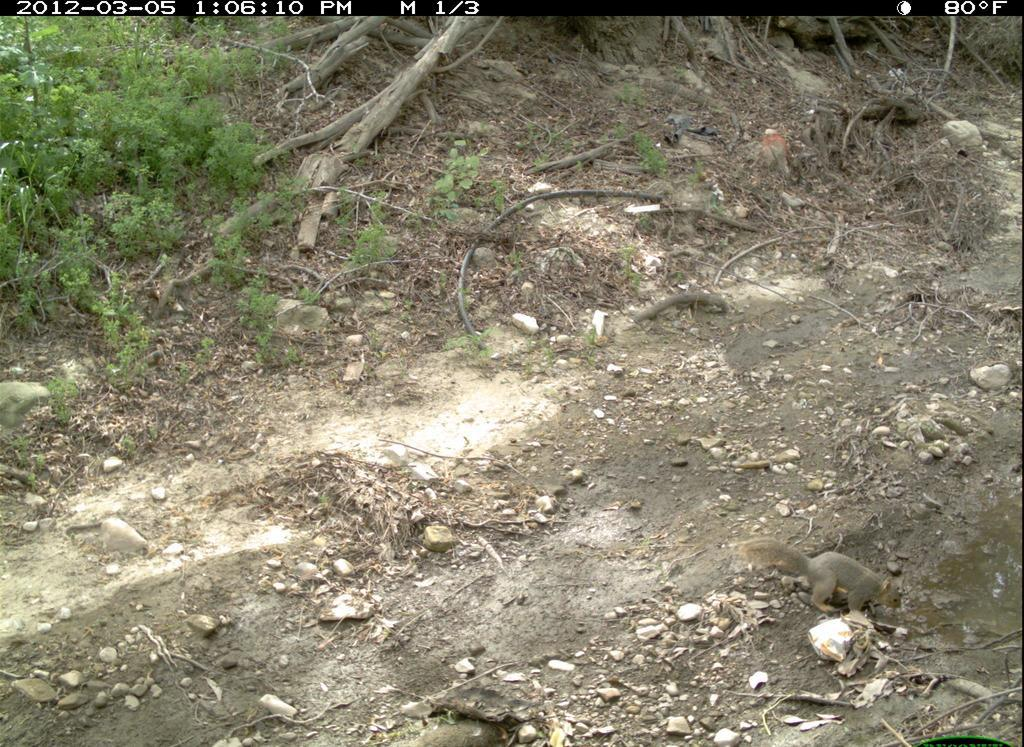squirrel: (738, 527, 920, 647)
